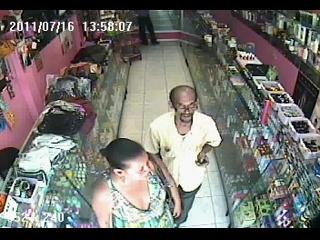Normal: (143, 84, 222, 225), (90, 138, 182, 227), (134, 11, 160, 46)
